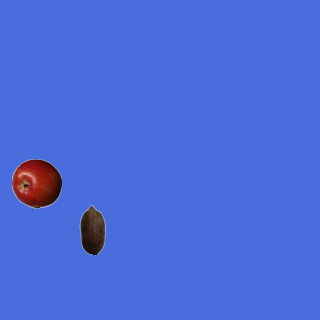Apple Braeburn: (11, 158, 61, 208)
Nut Pecan: (67, 204, 117, 254)
